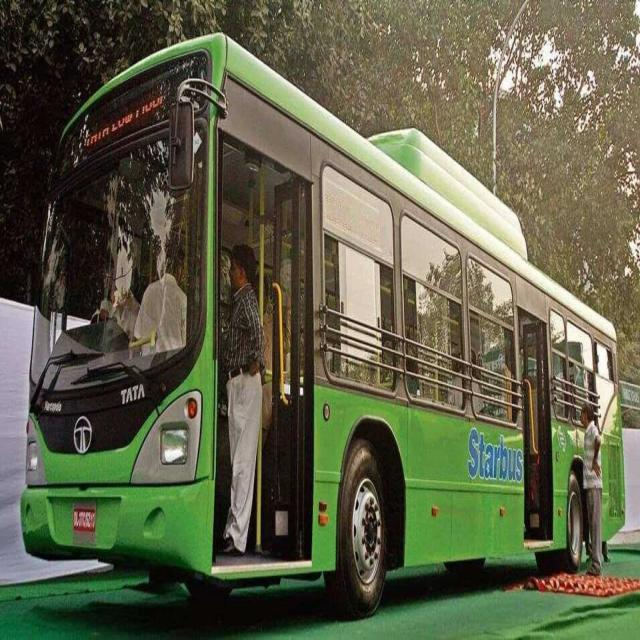bus: (23, 34, 626, 588)
